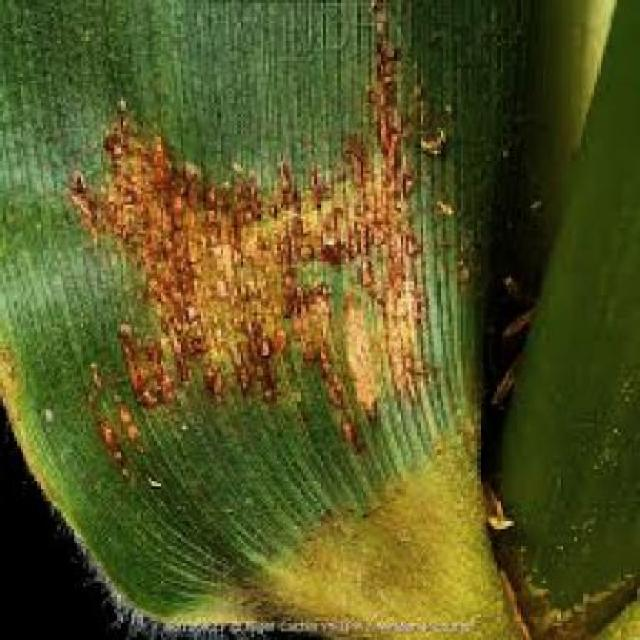Corn_Rust: (20, 16, 511, 478)
